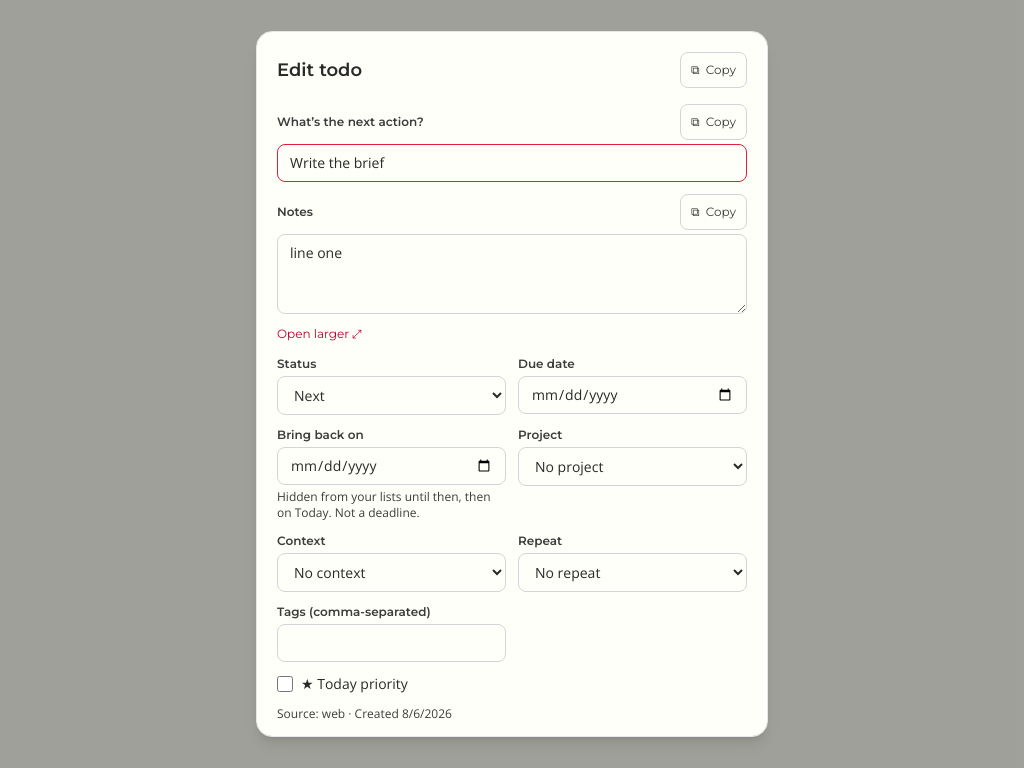
it: TodoEditSheet larger notes editor › closes only the editor on Escape
Click the button "Open larger ⤢" at [319, 334], box x1=277 y1=326 x2=362 y2=342
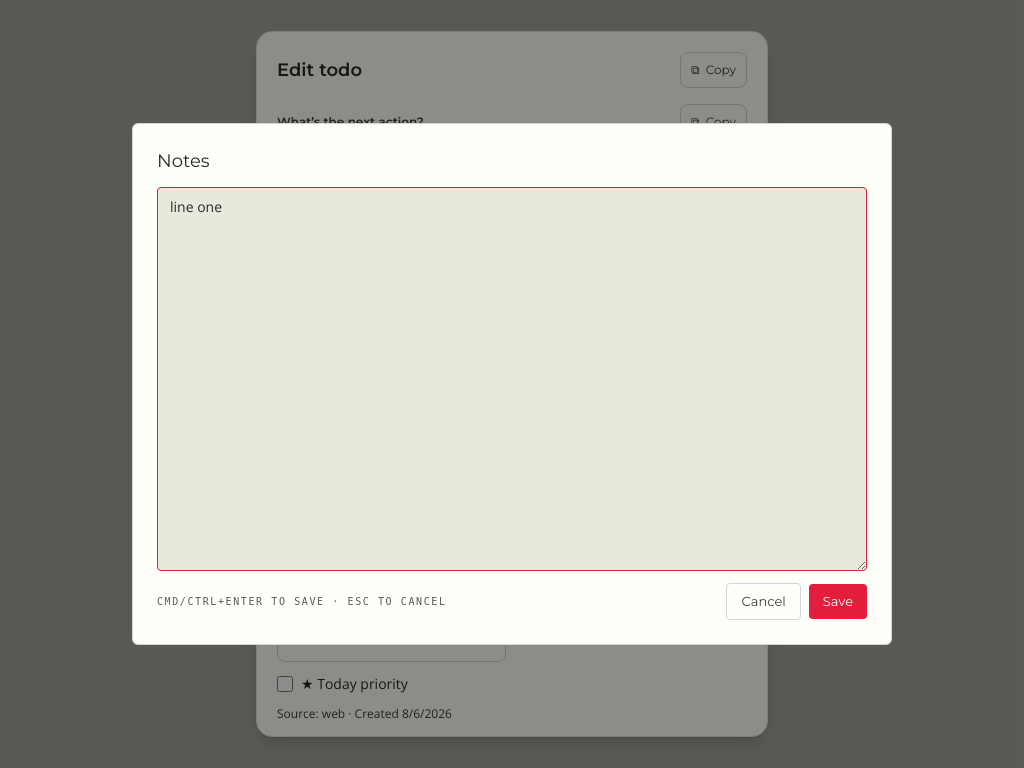
Press Escape in the text box, box x1=157 y1=187 x2=867 y2=571
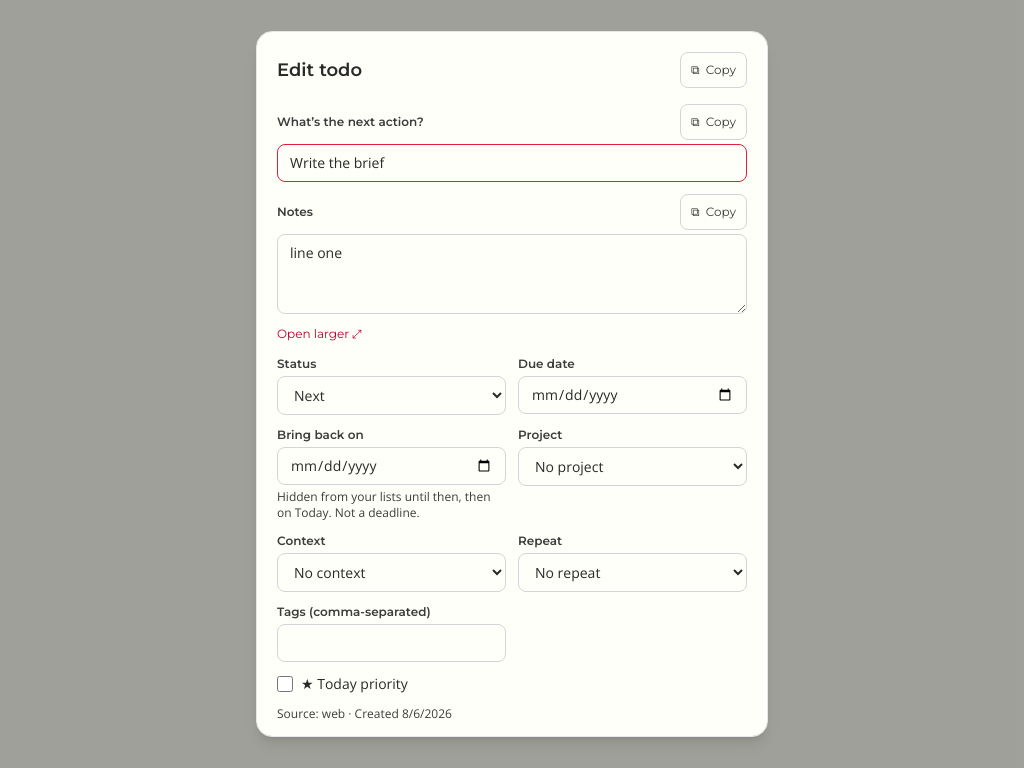
Expected: the text box with id "gtd-notes" holds "line one", x1=277 y1=234 x2=747 y2=314
Now the dialog is gone
